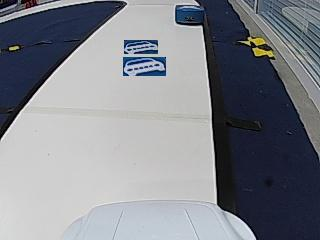prop: (175, 5, 204, 25)
